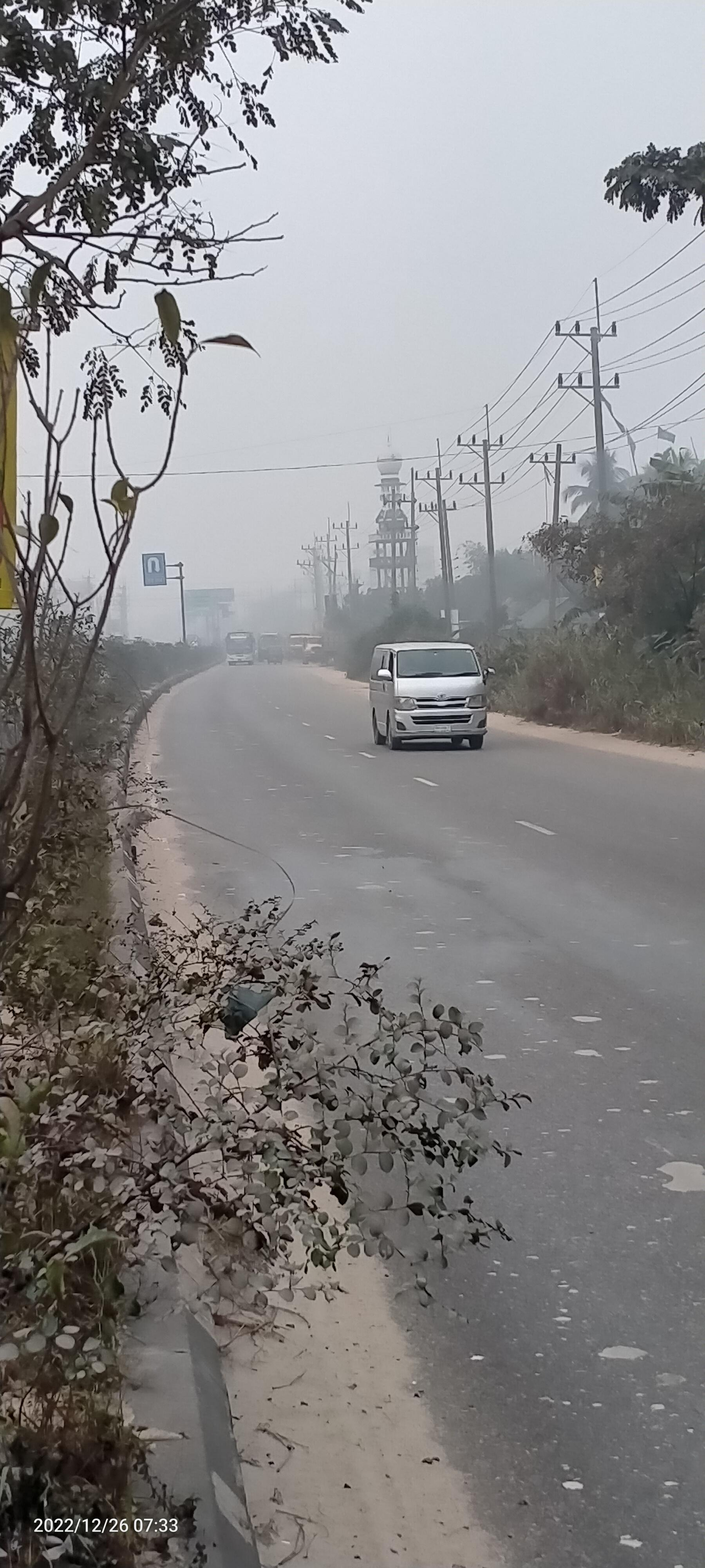Bus: (223, 629, 259, 669)
Car: (367, 633, 504, 766)
Truck: (300, 634, 328, 670)
